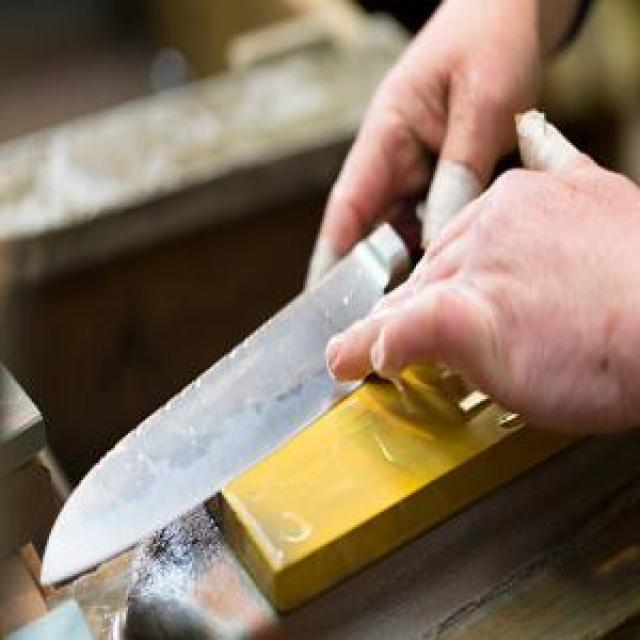knife: (38, 177, 491, 590)
